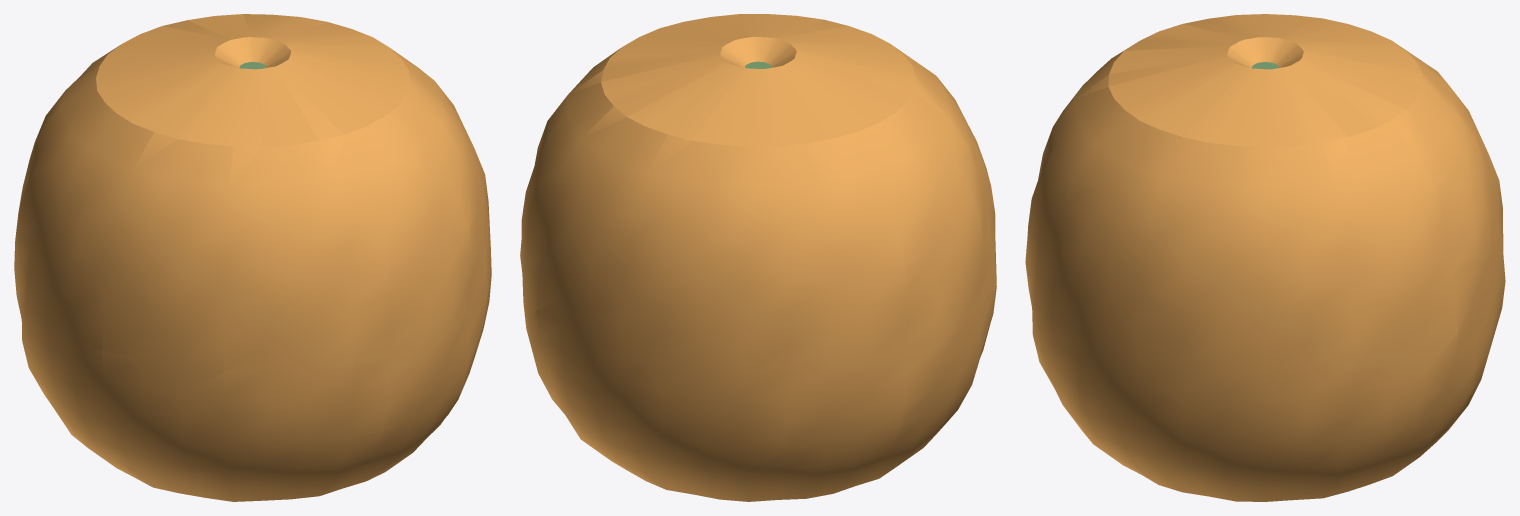
Rendered from fresh-produce-and-groceries-orange-4bb951a7__24323.glb.
3 renders of one model, left to right at view 1: azimuth 30°, elevation 25°; view 2: azimuth 150°, elevation 25°; view 3: azimuth 270°, elevation 25°, orthographic.
Parts seen in each view (by area): view 1: orange; view 2: orange; view 3: orange.
Part boxes in pixels (bbox=[...]): orange: bbox=[14, 14, 491, 501]; orange: bbox=[520, 14, 996, 501]; orange: bbox=[1025, 14, 1505, 501].
Size of the model in its own units: 0.08 by 0.076 by 0.0808.
